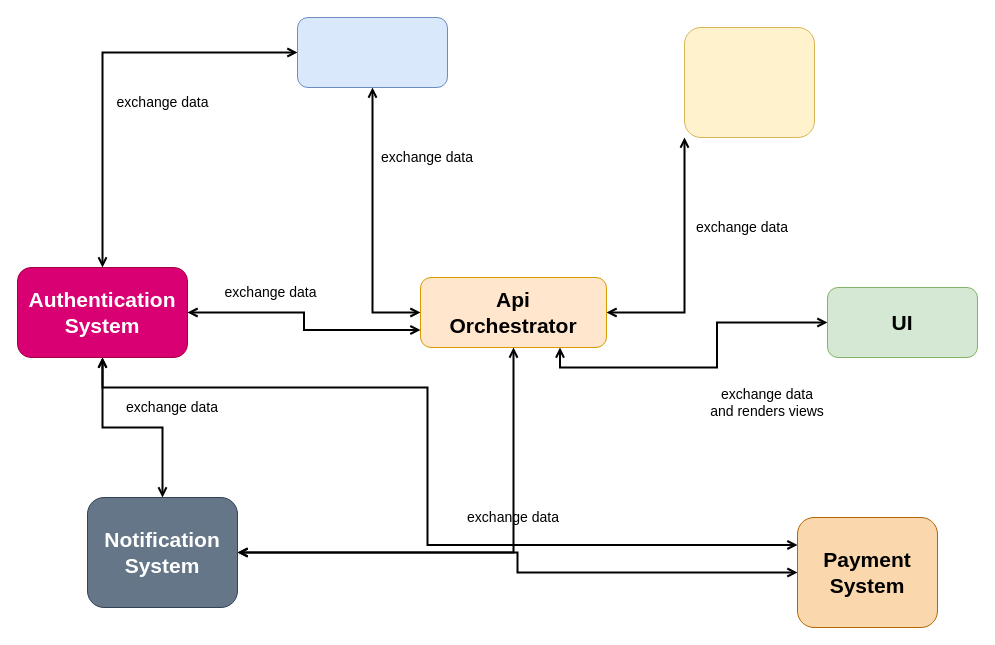
Some shapes in this 995 by 645 pixel diagram are drawn without their labels. The centre of each missing label's shape, as x and y in pixels:
"Chatting System" goes at point (372, 52).
"Search System" goes at point (749, 82).
